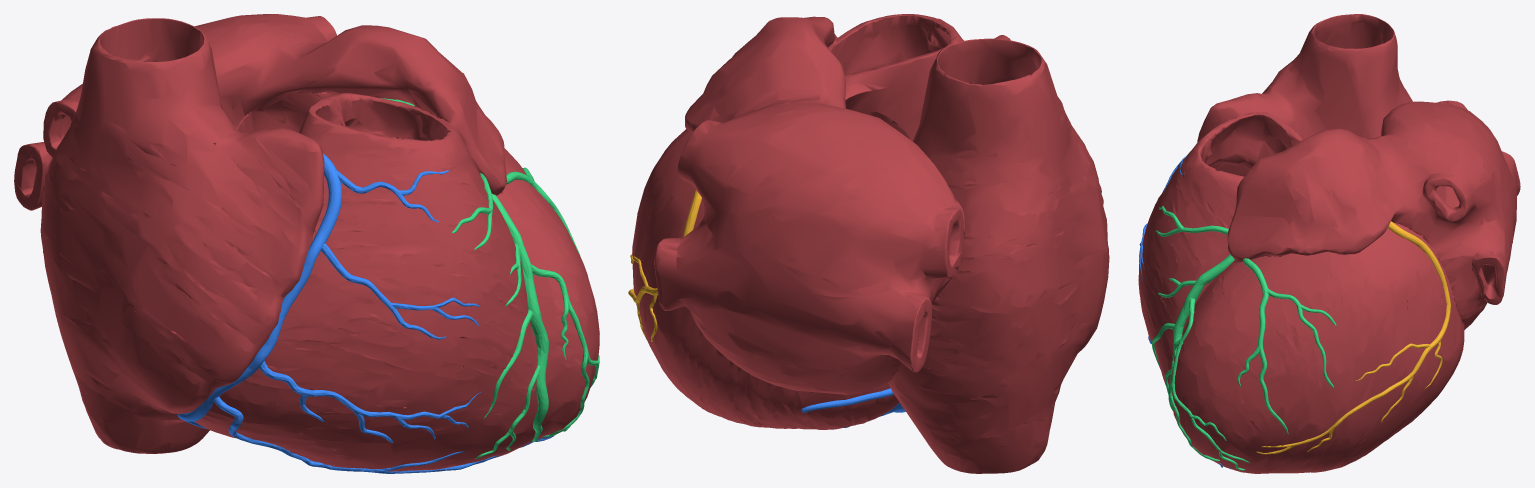
File: heart-realistic.glb
3 views of the same model, side by side, from view 1: azimuth 30°, elevation 25°; view 2: azimuth 150°, elevation 25°; view 3: azimuth 270°, elevation 25° (orthographic). The views are drawn at different scales.
Visible parts, largest first — view 1: HEART, RCA, LAD; view 2: HEART, LCX, RCA; view 3: HEART, LAD, LCX.
Boxes of the visible parts, x1,y1,x2,y2 form: HEART: [14, 14, 599, 471]; RCA: [177, 153, 553, 473]; LAD: [381, 98, 599, 459]; HEART: [632, 14, 1109, 473]; LCX: [628, 189, 701, 341]; RCA: [801, 388, 905, 427]; HEART: [1138, 14, 1520, 473]; LAD: [1152, 206, 1336, 470]; LCX: [1256, 221, 1450, 454].
Bounding box in the file's own units: 3 × 2.73 × 2.84.
